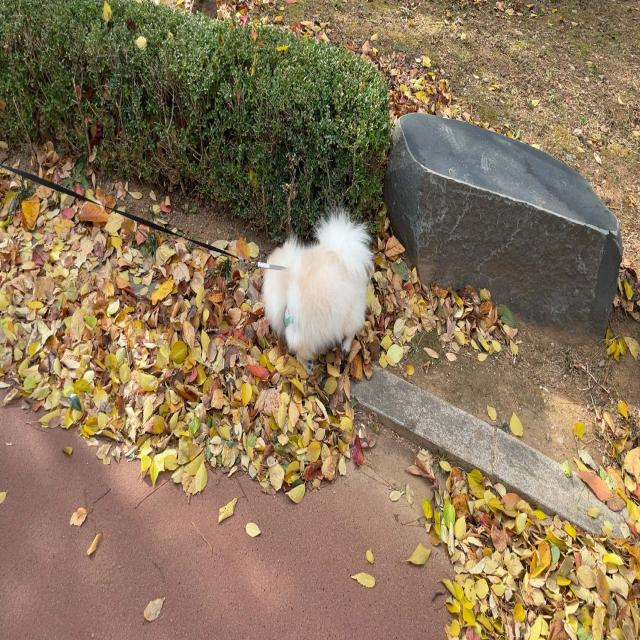Dog: (262, 209, 373, 375)
